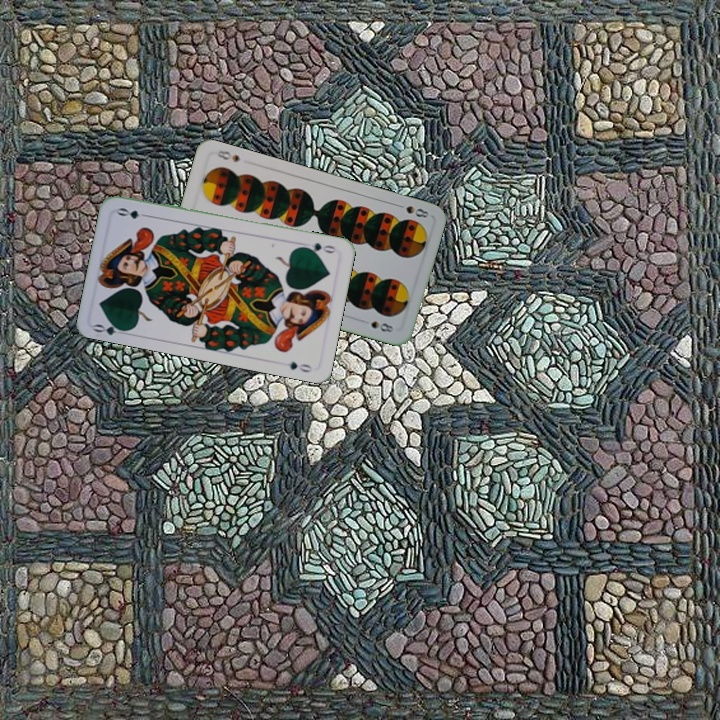GO: (90, 317, 131, 338), (299, 239, 339, 256)
S8: (392, 200, 431, 221)
